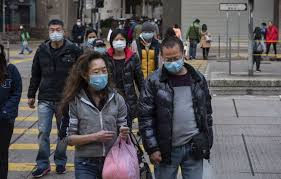mask: (73, 49, 113, 95), (159, 33, 190, 74), (45, 16, 68, 44), (105, 26, 130, 51), (138, 16, 156, 41), (91, 39, 108, 54), (83, 27, 97, 43), (74, 16, 81, 27)
